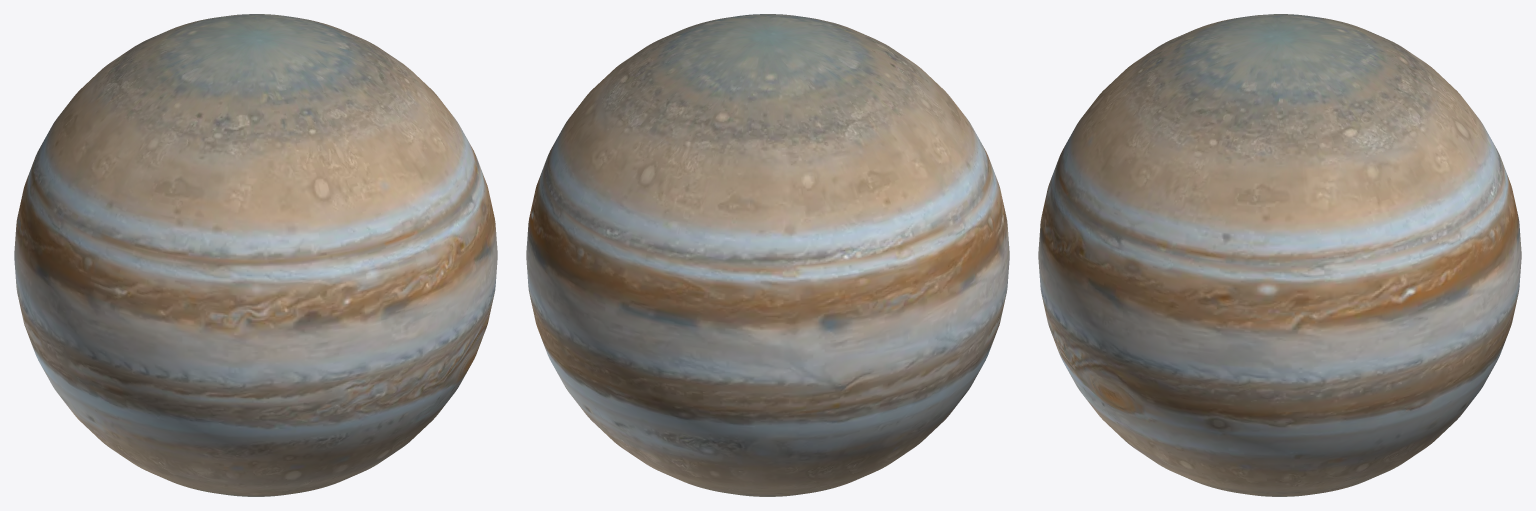
File: jupiter.glb
The picture shows the model from 3 angles, left to right: view 1: azimuth 30°, elevation 25°; view 2: azimuth 150°, elevation 25°; view 3: azimuth 270°, elevation 25°; orthographic projection.
Parts seen in each view (by area): view 1: Sphere_Material.002_0; view 2: Sphere_Material.002_0; view 3: Sphere_Material.002_0.
Boxes of the visible parts, box(x1,y1,x2,y2) form: Sphere_Material.002_0: box(14, 14, 497, 496); Sphere_Material.002_0: box(526, 14, 1009, 496); Sphere_Material.002_0: box(1038, 14, 1521, 496).
Bounding box in the file's own units: 200 × 200 × 200.
Materials: 1 (1 with a texture image).
